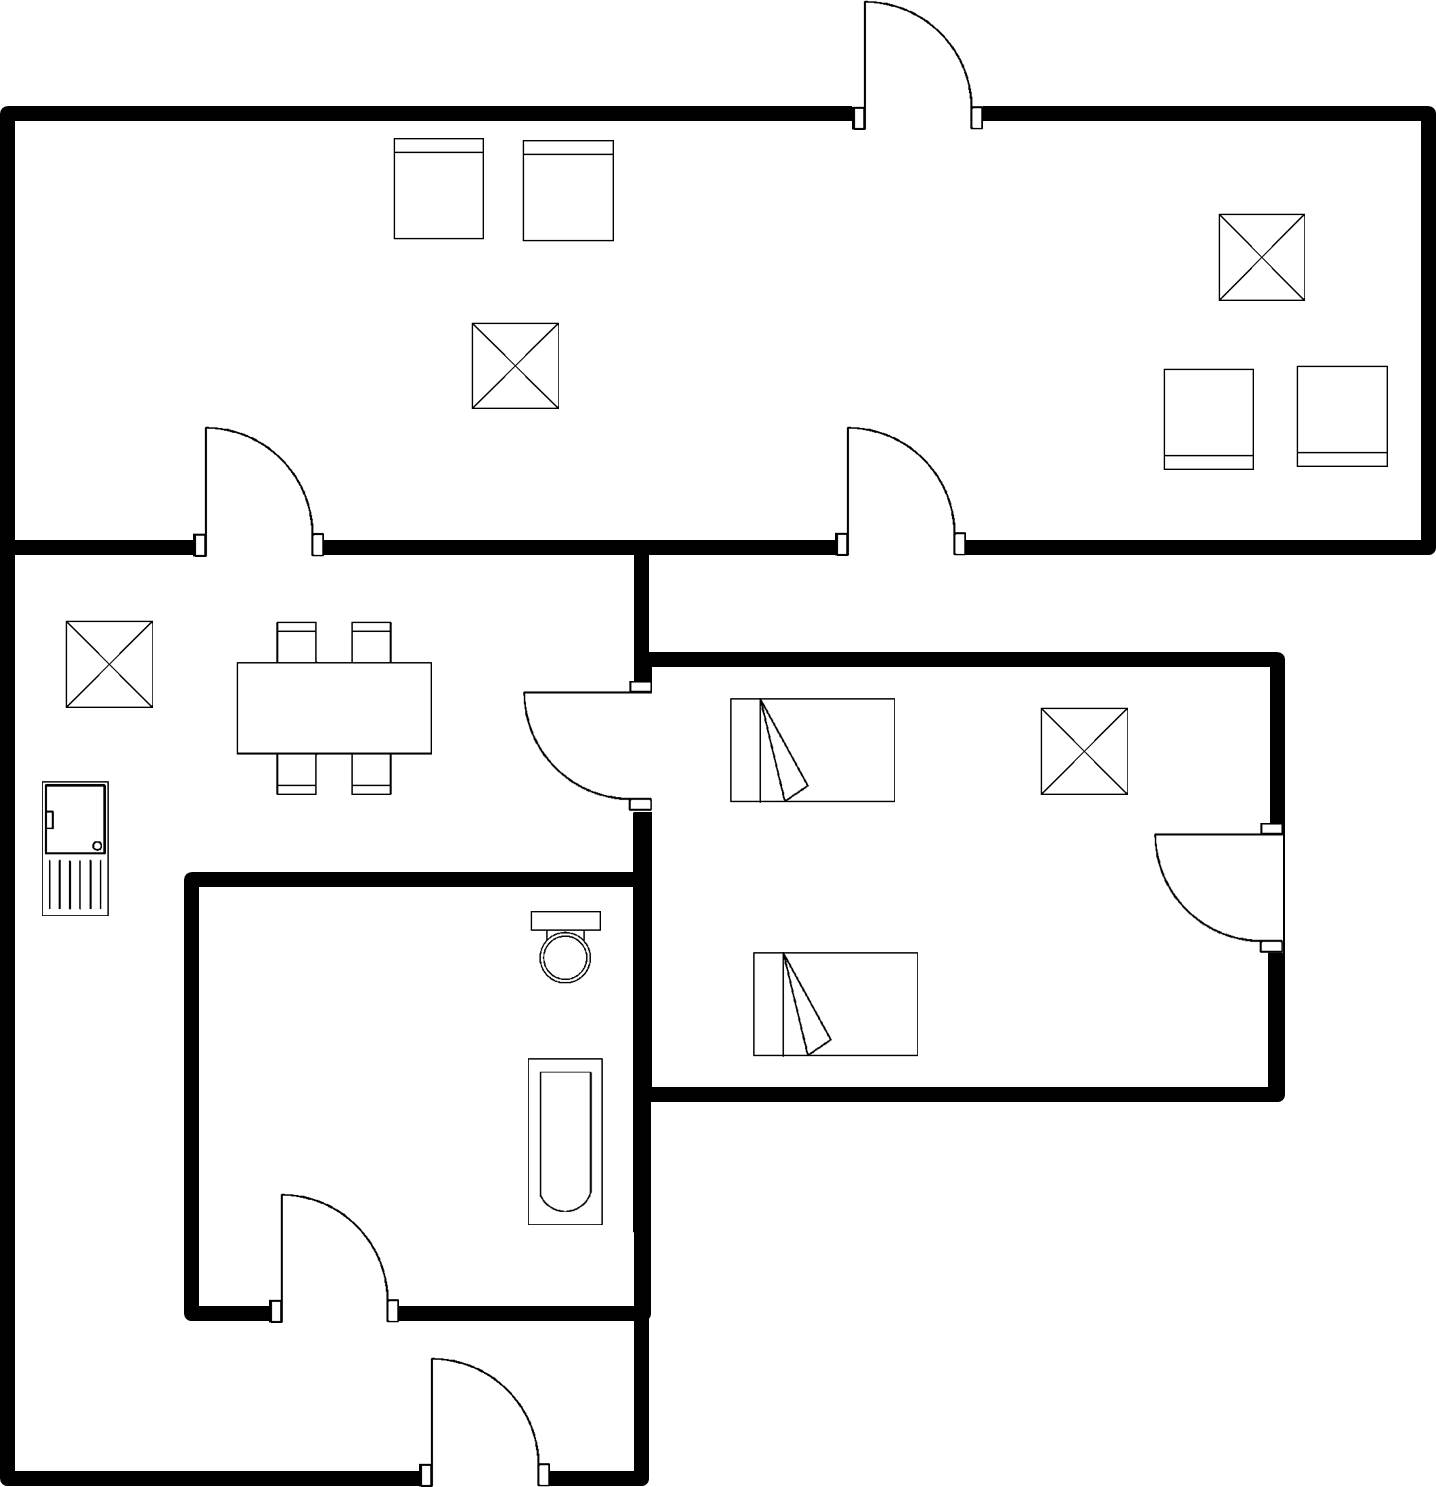bed: (714, 683, 906, 814), (745, 943, 932, 1069)
coffee_table: (461, 308, 569, 430), (1030, 699, 1142, 807), (56, 614, 169, 721), (1206, 204, 1314, 314)
dining_table: (224, 611, 443, 805)
large_sink: (516, 904, 608, 994)
sink: (35, 770, 119, 925)
small_sofa: (1288, 354, 1401, 482), (1153, 357, 1268, 479), (511, 130, 623, 252), (382, 131, 493, 250)
tub: (517, 1046, 611, 1236)
